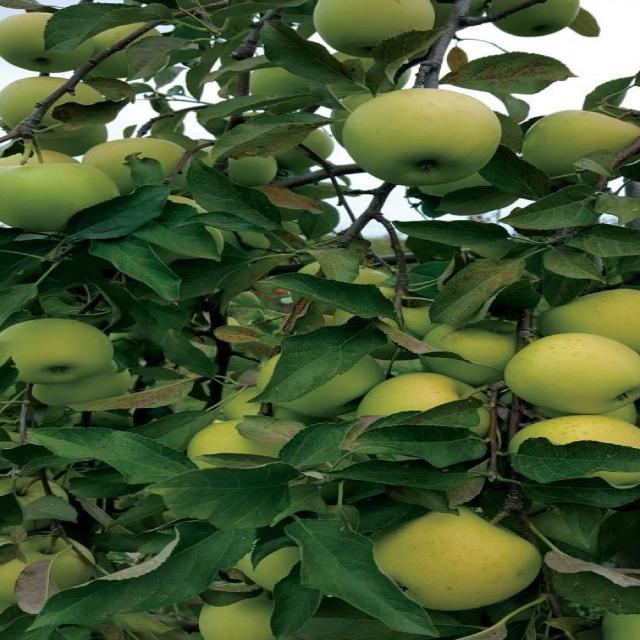Green Apple: (362, 506, 544, 606), (343, 89, 498, 185), (509, 417, 640, 495), (515, 325, 640, 406), (359, 373, 493, 443), (180, 417, 314, 483), (1, 157, 120, 231), (519, 109, 638, 175), (260, 352, 378, 411), (551, 283, 640, 355), (1, 315, 103, 376), (1, 534, 87, 604), (188, 595, 314, 640), (422, 317, 522, 373), (366, 289, 449, 356), (1, 78, 105, 131), (211, 376, 305, 433), (314, 1, 425, 46), (88, 133, 184, 183), (1, 11, 81, 70), (75, 19, 161, 73), (31, 363, 137, 406), (423, 165, 516, 214), (230, 547, 317, 595), (534, 394, 638, 434), (1, 471, 70, 531), (309, 262, 392, 308), (15, 115, 119, 151), (242, 62, 314, 109), (584, 584, 640, 640), (332, 50, 410, 87), (1, 140, 75, 179), (490, 1, 584, 30), (278, 126, 333, 166), (220, 154, 279, 189), (217, 228, 269, 257), (391, 1, 480, 11)
